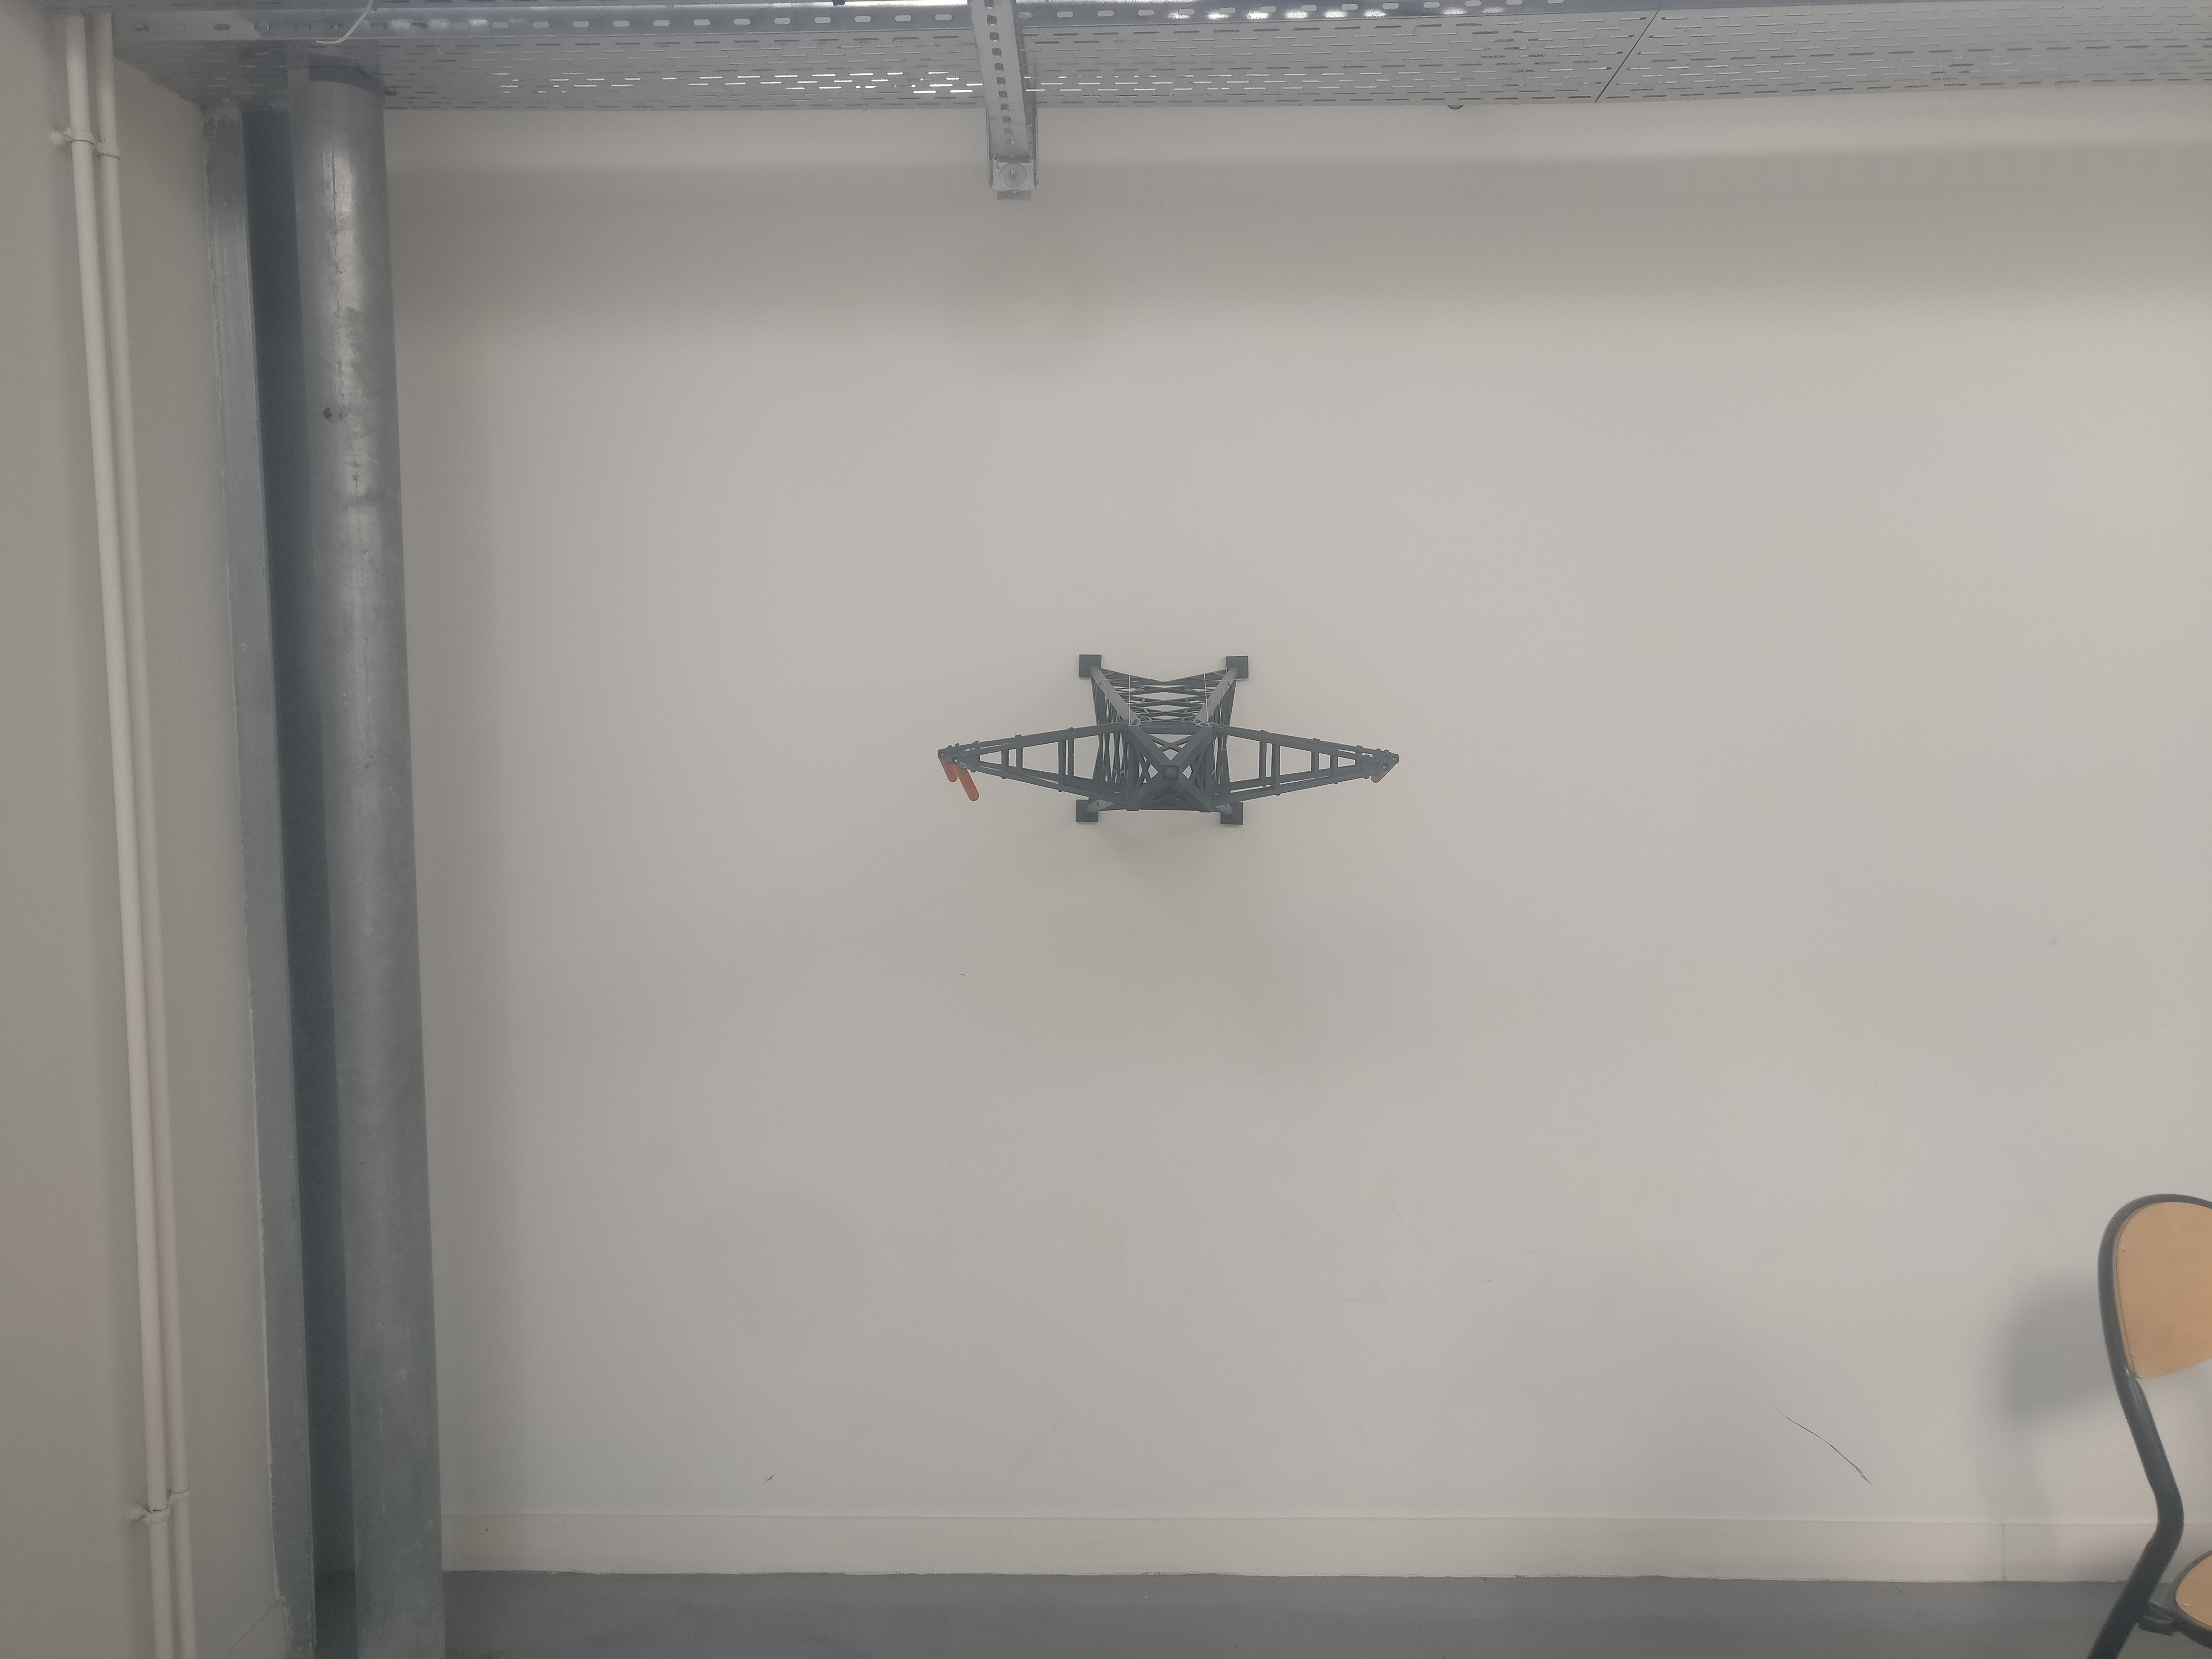pylon_phy: (934, 723, 1399, 812)
